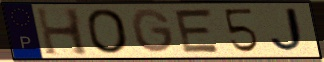5: (221, 7, 260, 54)
E: (173, 7, 223, 54)
G: (129, 7, 177, 55)
H: (34, 6, 92, 57)
J: (269, 7, 311, 55)
O: (84, 7, 132, 55)
